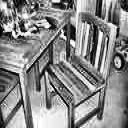chair_success: (37, 0, 122, 127)
